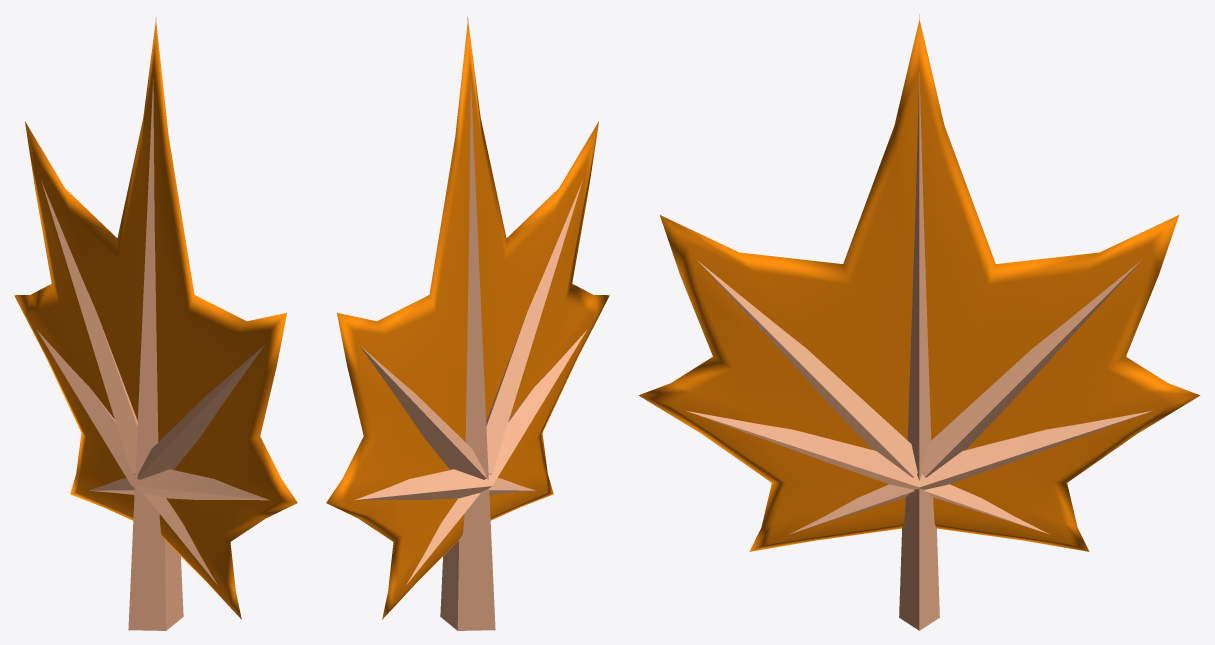
File: leaf2.fbx
3 views of the same model, side by side, from view 1: azimuth 30°, elevation 25°; view 2: azimuth 150°, elevation 25°; view 3: azimuth 270°, elevation 25° (orthographic).
Visible parts, largest first — view 1: leafShape; view 2: leafShape; view 3: leafShape.
Boxes of the visible parts, x1=… form: leafShape: x1=14, y1=17, x2=297, y2=630; leafShape: x1=326, y1=17, x2=609, y2=630; leafShape: x1=638, y1=14, x2=1200, y2=630.
Size of the model in its own units: 2 by 21.1 by 17.81.
